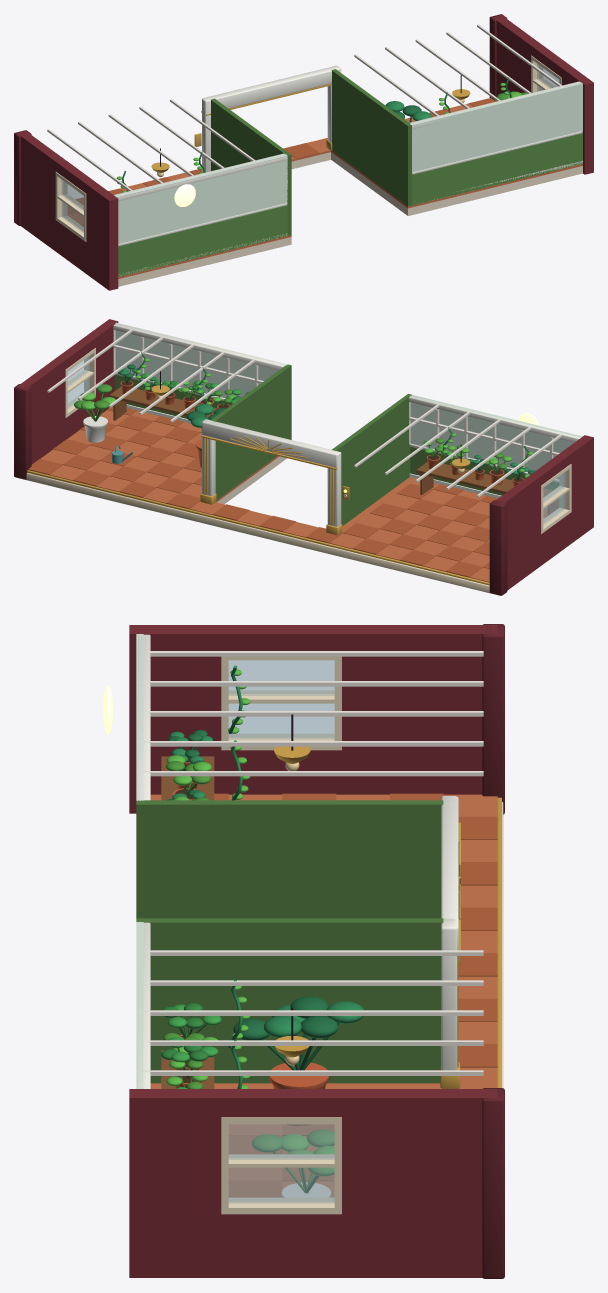
Rendered from Floor_Greenhouse.fbx.
3 views of the same model, one above another, from view 1: azimuth 30°, elevation 25°; view 2: azimuth 150°, elevation 25°; view 3: azimuth 270°, elevation 25° (orthographic). The views are drawn at different scales.
Parts seen in each view (by area): view 1: Shell, Glow; view 2: Shell; view 3: Shell.
Boxes of the visible parts, bbox=[...] form: Shell: bbox=[14, 14, 593, 290]; Glow: bbox=[157, 99, 464, 206]; Shell: bbox=[14, 319, 593, 595]; Shell: bbox=[129, 624, 504, 1278].
Bounding box in the file's own units: 15.92 × 2.92 × 5.67.
